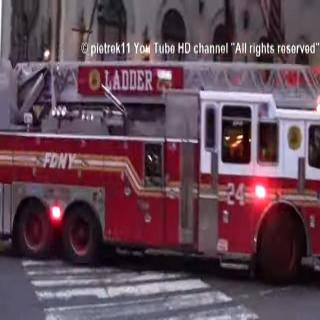Fire_truck: (0, 56, 320, 282)
